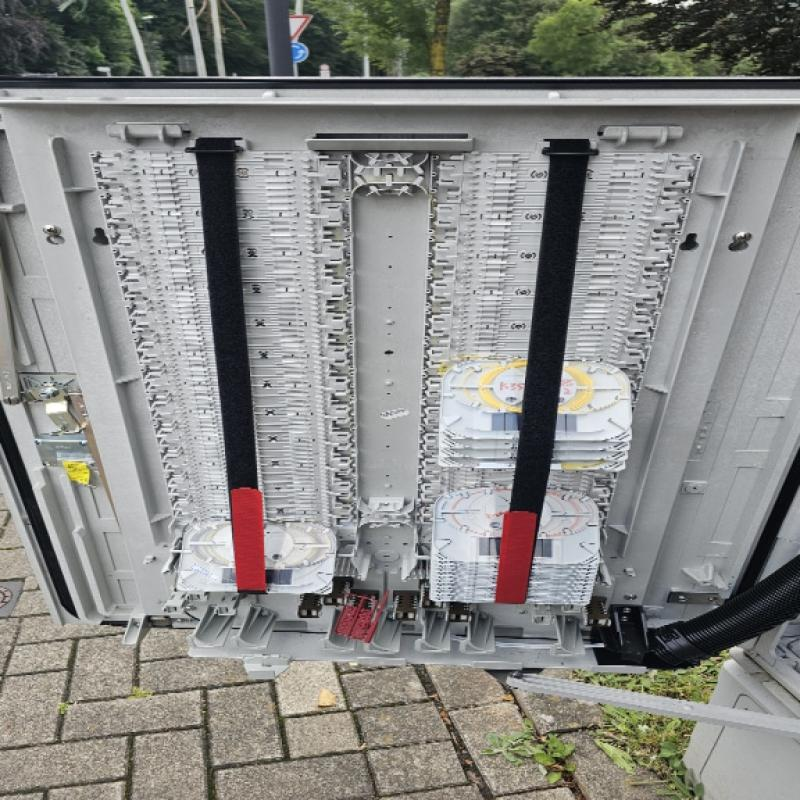NT-Gehause: (0, 77, 799, 800)
Spleiskassetten: (417, 138, 718, 620), (89, 141, 373, 595)
